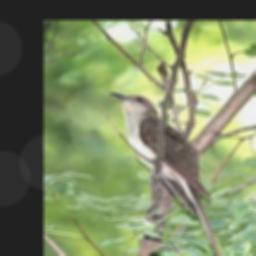Cuckoo: (111, 92, 227, 256)
